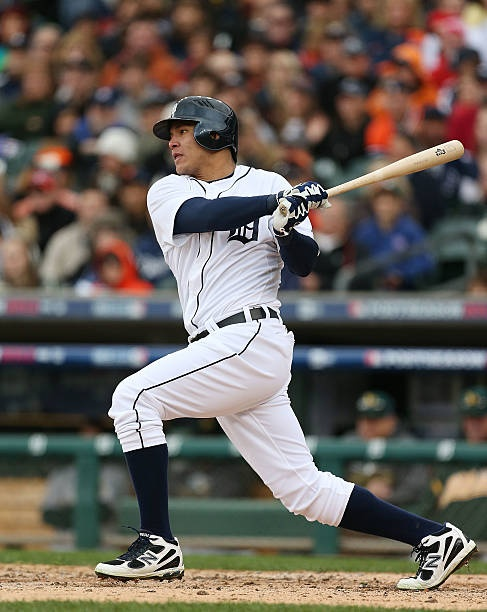bita: (316, 139, 463, 201)
